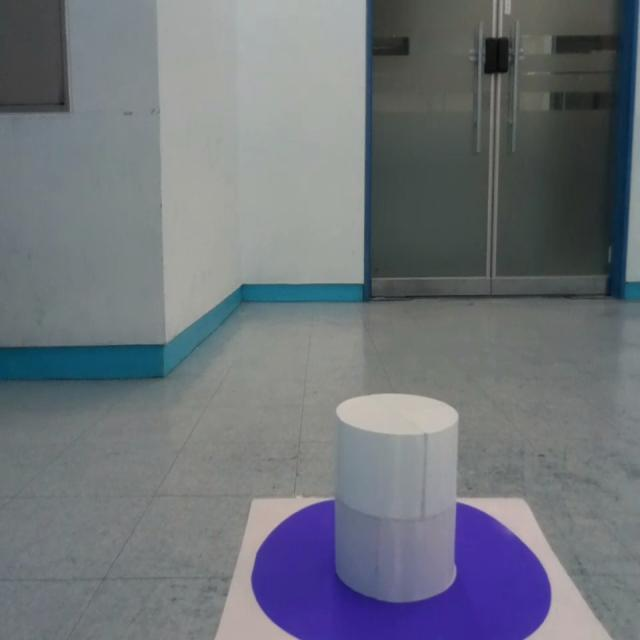cylinder: (334, 393, 459, 602)
